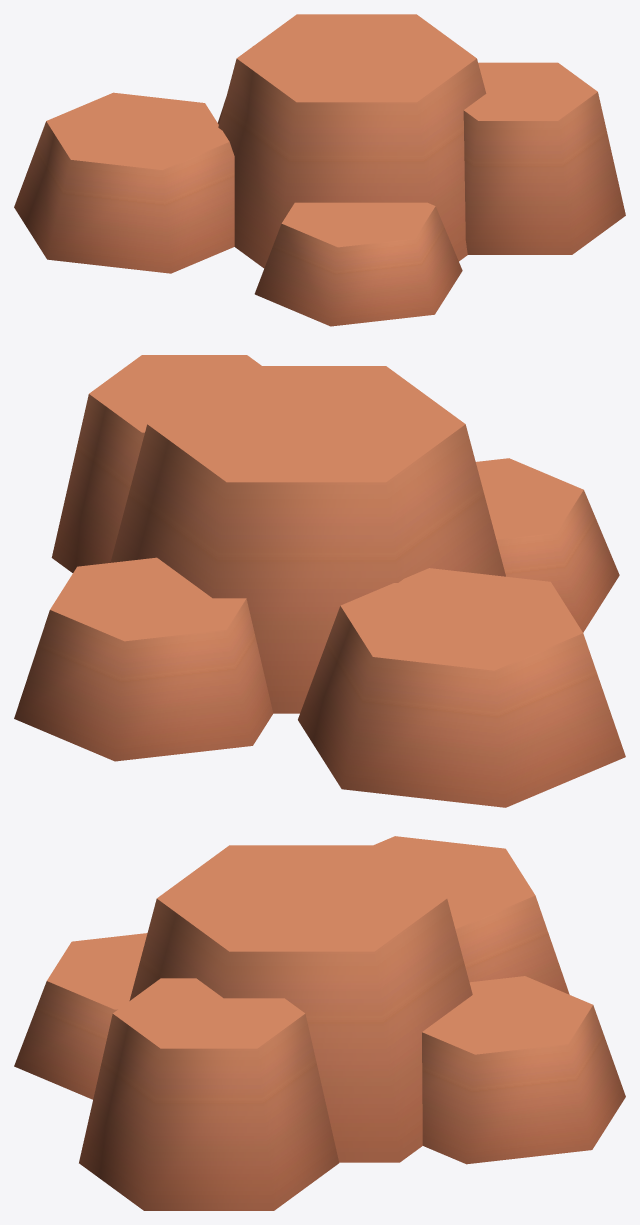
The model's file is rocks.glb.
3 renders of one model, top to bottom at view 1: azimuth 30°, elevation 25°; view 2: azimuth 150°, elevation 25°; view 3: azimuth 270°, elevation 25°, orthographic. The views are drawn at different scales.
Visible parts, largest first — view 1: rocks; view 2: rocks; view 3: rocks.
Boxes of the visible parts, <box> form: rocks: <box>14,14,625,326</box>; rocks: <box>14,355,625,807</box>; rocks: <box>14,836,625,1210</box>.
Size of the model in its own units: 1.11 by 0.3525 by 1.02.
1 material, 1 textured.
